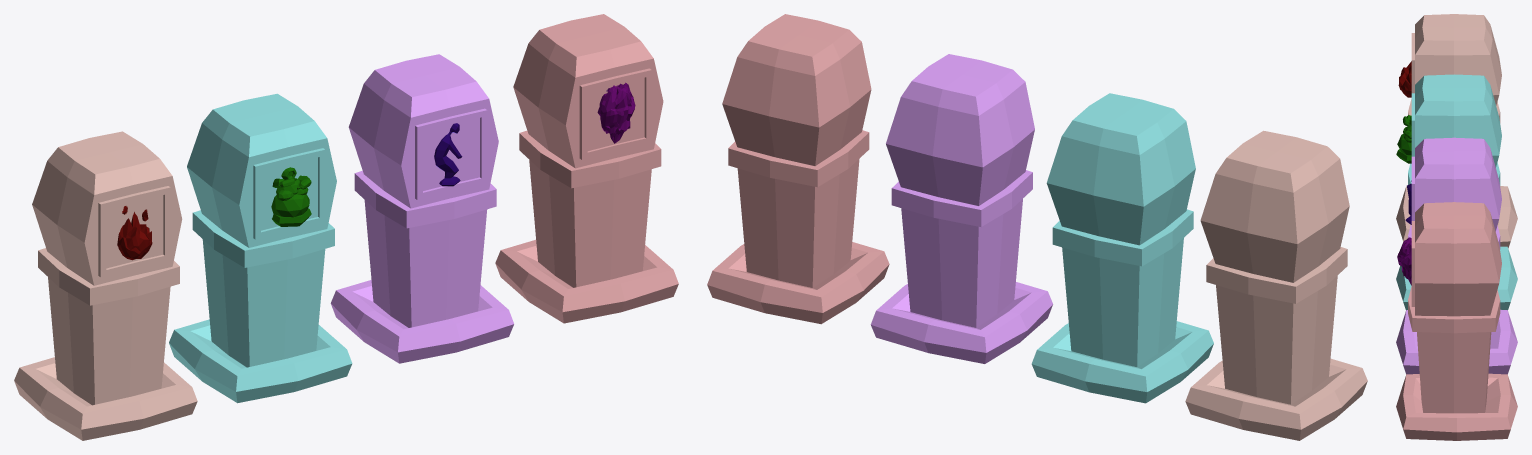
File: tableler_rev.fbx
3 views of the same model, side by side, from view 1: azimuth 30°, elevation 25°; view 2: azimuth 150°, elevation 25°; view 3: azimuth 270°, elevation 25° (orthographic). The views are drawn at different scales.
Visible parts, largest first — view 1: purple_table_desk, red_table_desk, blue_table_desk, green_tabe_desk, blue_table, red_table, purple_table, crystal_green_greed, green_table, crystal_purple_pride, crystal_red_wrath, crystal_blue_despair; view 2: green_tabe_desk, purple_table_desk, blue_table_desk, red_table_desk; view 3: purple_table_desk, blue_table_desk, green_tabe_desk, red_table_desk, crystal_green_greed, crystal_purple_pride, crystal_red_wrath, crystal_blue_despair.
Part boxes in pixels (<box>): purple_table_desk: <box>495,14,678,323</box>; red_table_desk: <box>14,131,197,440</box>; blue_table_desk: <box>330,54,513,363</box>; green_tabe_desk: <box>169,93,352,403</box>; blue_table: <box>423,118,479,190</box>; red_table: <box>106,195,163,268</box>; purple_table: <box>587,77,644,150</box>; crystal_green_greed: <box>271,167,311,226</box>; green_table: <box>261,157,317,230</box>; crystal_purple_pride: <box>597,82,635,143</box>; crystal_red_wrath: <box>117,206,152,260</box>; crystal_blue_despair: <box>434,123,462,186</box>; green_tabe_desk: <box>1031,93,1213,403</box>; purple_table_desk: <box>707,14,889,324</box>; blue_table_desk: <box>870,54,1052,363</box>; red_table_desk: <box>1185,130,1367,440</box>; purple_table_desk: <box>1396,202,1517,440</box>; blue_table_desk: <box>1396,137,1517,374</box>; green_tabe_desk: <box>1396,74,1517,309</box>; red_table_desk: <box>1396,14,1517,248</box>; crystal_green_greed: <box>1396,115,1411,163</box>; crystal_purple_pride: <box>1397,237,1411,285</box>; crystal_red_wrath: <box>1398,61,1411,97</box>; crystal_blue_despair: <box>1405,180,1411,224</box>.
Size of the model in its own units: 42.39 by 16.89 by 9.11.
